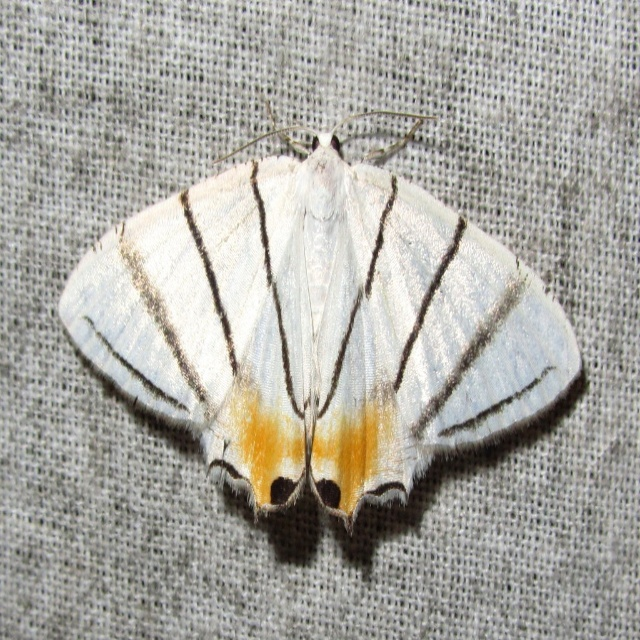Butterfly: (84, 99, 565, 573)
